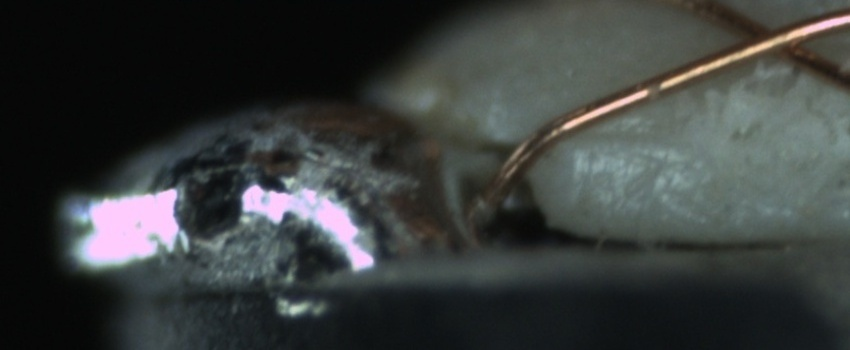CL: (712, 5, 837, 70)
DL: (571, 109, 688, 167)
